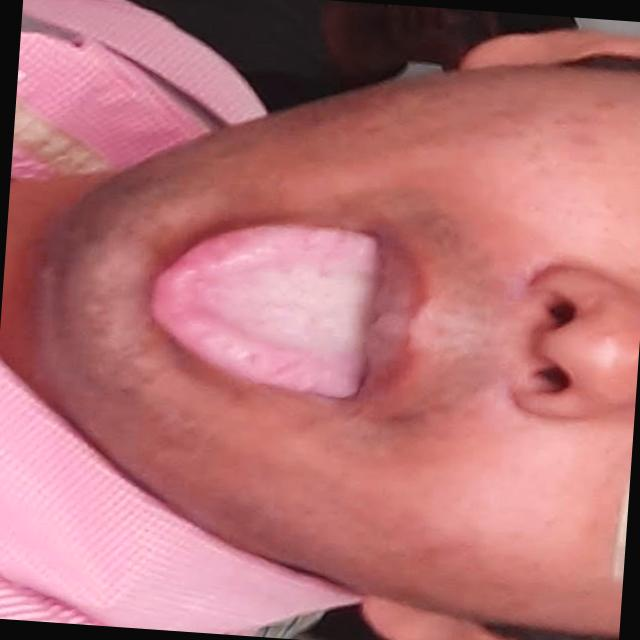No Cancer: (142, 218, 376, 399)
